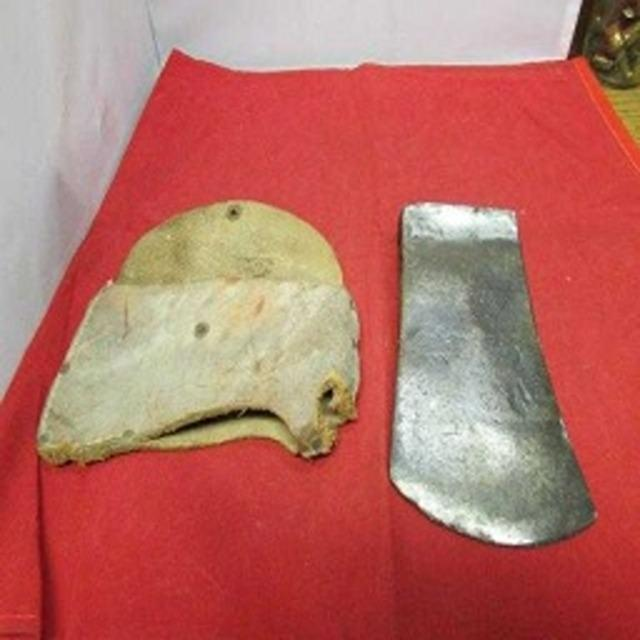ax: (378, 186, 612, 554)
